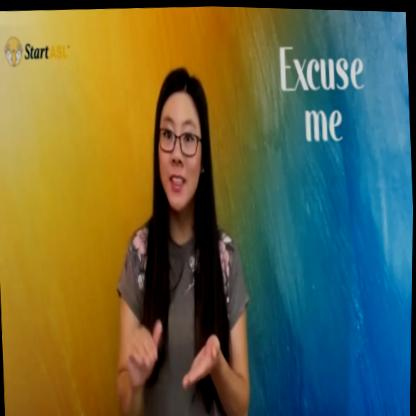ExcuseMe: (125, 293, 229, 400)
